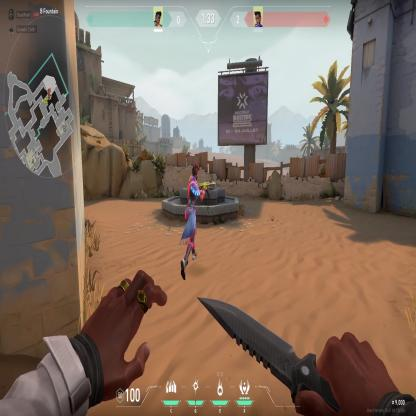enemy: (178, 163, 201, 284)
